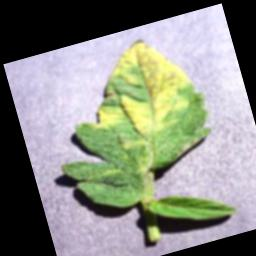Leaf_Mold: (72, 28, 204, 157)
